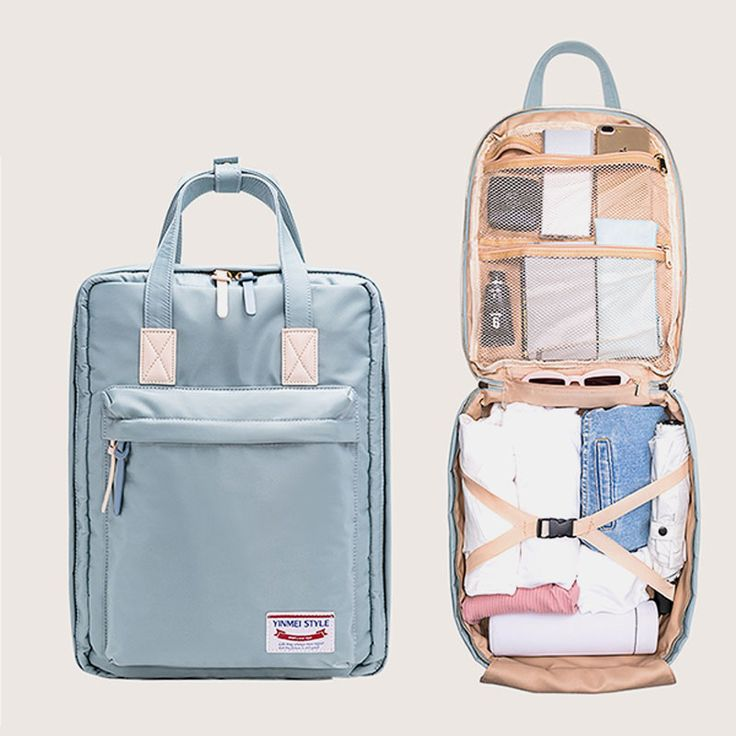nylon: (68, 156, 390, 681)
